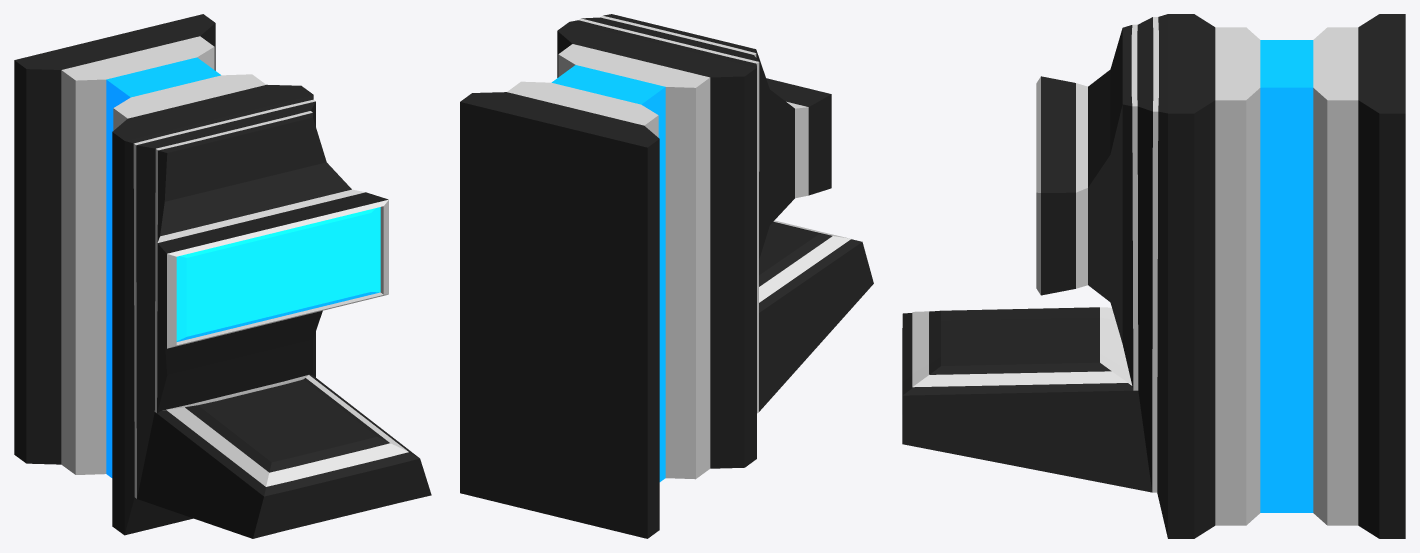
Rendered from Terminal.fbx.
3 renders of one model, left to right at view 1: azimuth 30°, elevation 25°; view 2: azimuth 150°, elevation 25°; view 3: azimuth 270°, elevation 25°, orthographic. The views are drawn at different scales.
Visible parts, largest first — view 1: Cube.011, Cube.012; view 2: Cube.011; view 3: Cube.011.
Boxes of the visible parts, left/top/right/bottom form: Cube.011: left=14, top=14, right=431, bottom=538; Cube.012: left=176, top=207, right=380, bottom=341; Cube.011: left=460, top=14, right=873, bottom=538; Cube.011: left=902, top=14, right=1405, bottom=538.
Bounding box in the file's own units: 1149 × 1950 × 2091.
